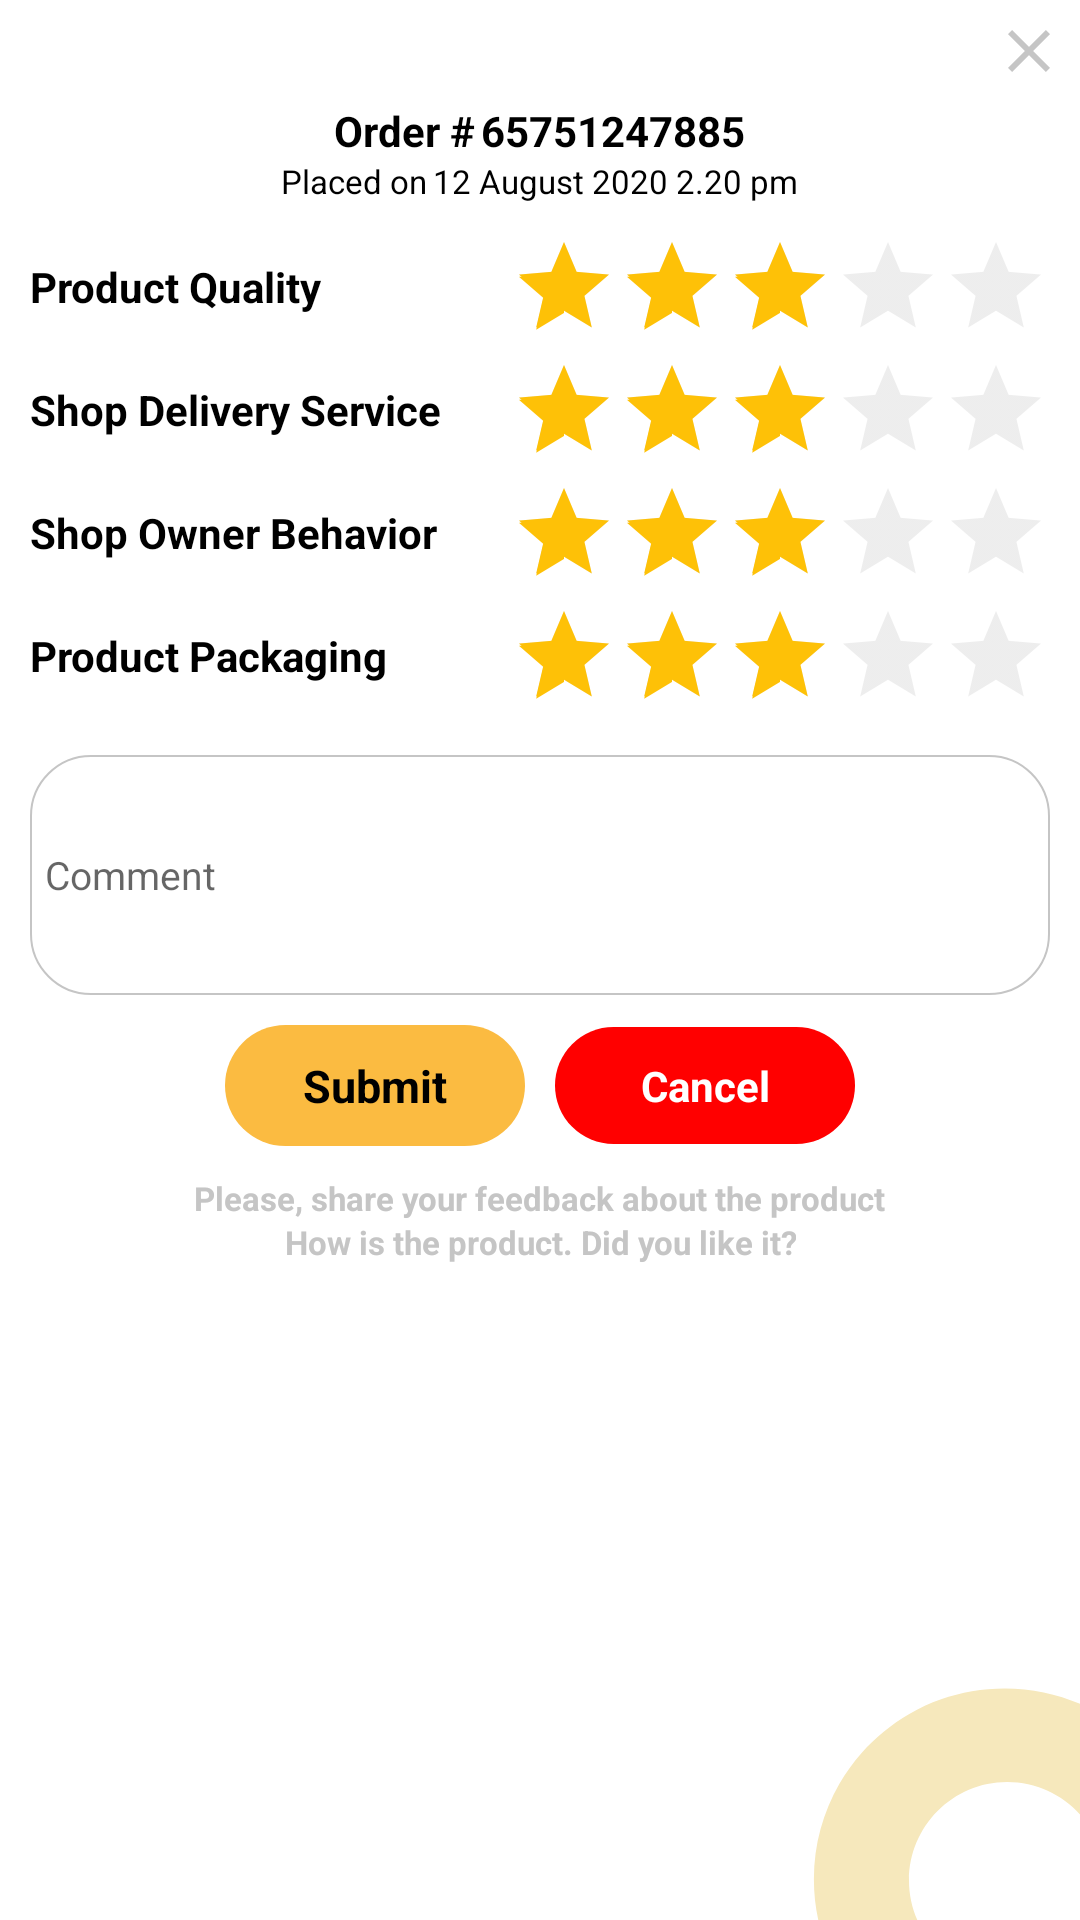

Point at icon controls on the screen. Image size 1080*1920, points as [x,y].
close: [1029,51]
